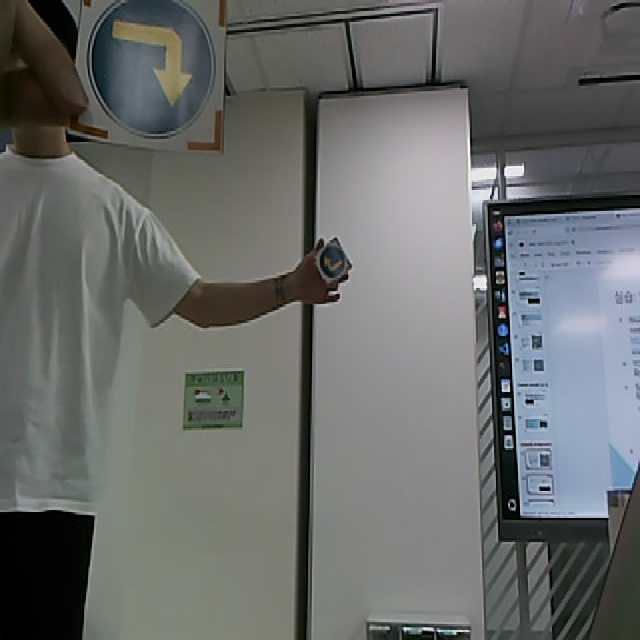right: (68, 1, 227, 156), (313, 237, 353, 287)
